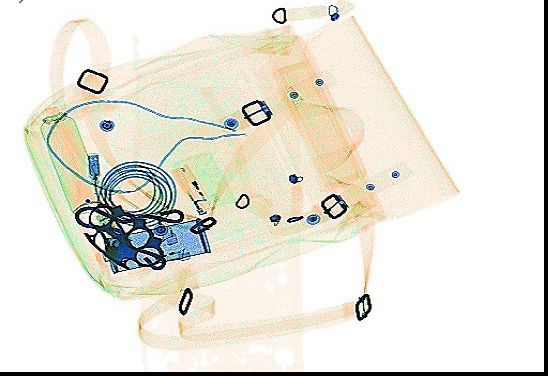lighter: (167, 162, 212, 214)
pressure: (39, 104, 103, 212)
slingshot: (69, 204, 185, 271)
zippooil: (100, 216, 211, 273)
